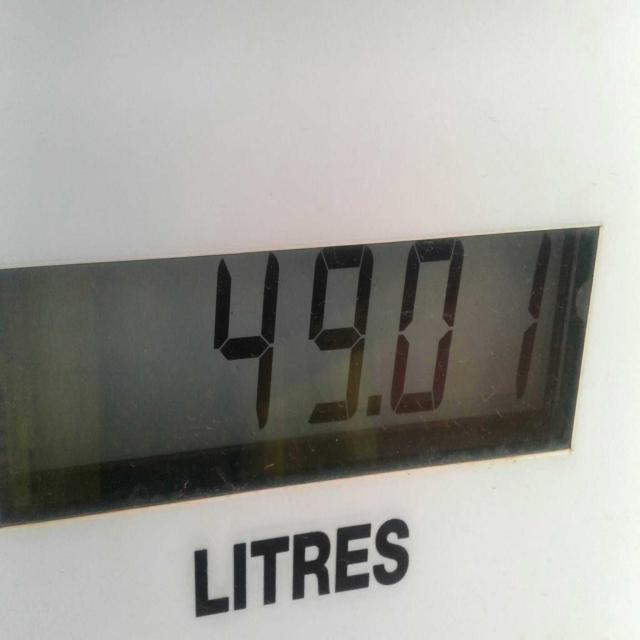.: (360, 368, 392, 438)
0: (381, 240, 463, 424)
1: (506, 232, 560, 409)
4: (211, 258, 290, 438)
9: (304, 253, 372, 424)
